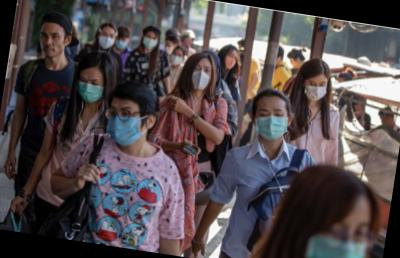with_mask: (300, 209, 373, 258), (103, 102, 148, 149), (251, 103, 291, 143), (75, 74, 106, 105), (302, 77, 329, 103), (190, 62, 213, 92), (97, 30, 117, 50), (222, 50, 238, 71), (141, 32, 158, 50), (169, 51, 184, 67), (114, 35, 129, 50), (163, 42, 175, 55)
without_mask: (37, 28, 67, 60)
